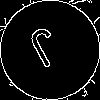J: (25, 25, 69, 78)
